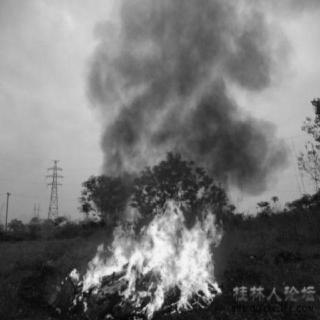Fire: (66, 210, 226, 312)
Smoke: (99, 7, 267, 175)
